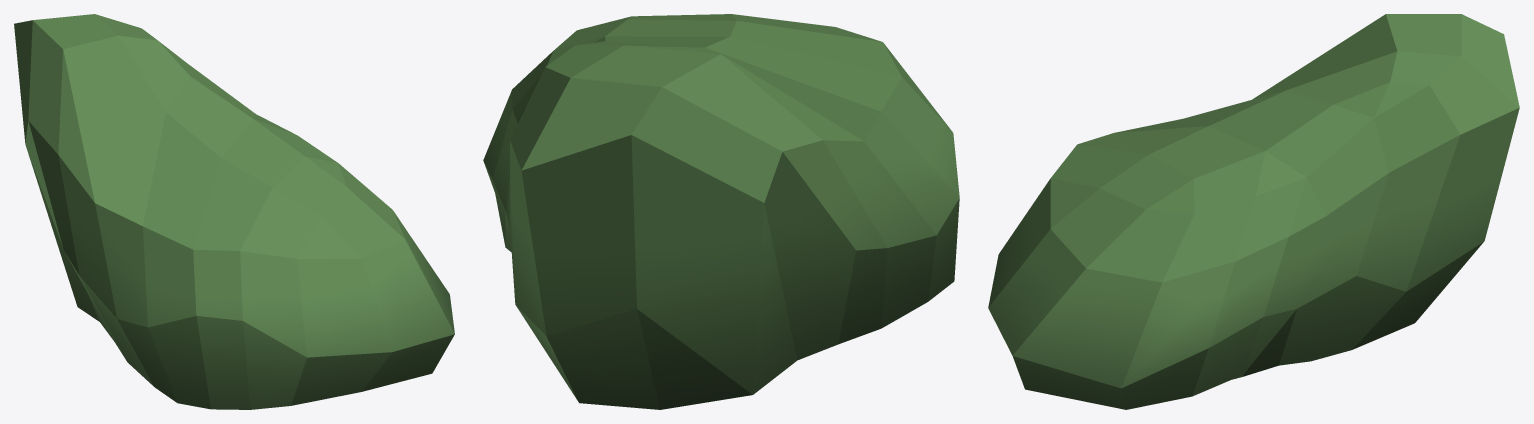
Rendered from Bush-03.FBX.
The picture shows the model from 3 angles, left to right: view 1: azimuth 30°, elevation 25°; view 2: azimuth 150°, elevation 25°; view 3: azimuth 270°, elevation 25°; orthographic projection. The views are drawn at different scales.
Visible parts, largest first — view 1: Bush-03; view 2: Bush-03; view 3: Bush-03.
Boxes of the visible parts, left/top/right/bottom form: Bush-03: left=14, top=14, right=454, bottom=409; Bush-03: left=483, top=14, right=959, bottom=409; Bush-03: left=988, top=14, right=1519, bottom=409.
Size of the model in its own units: 234 by 181 by 321.
1 material, 1 textured.
